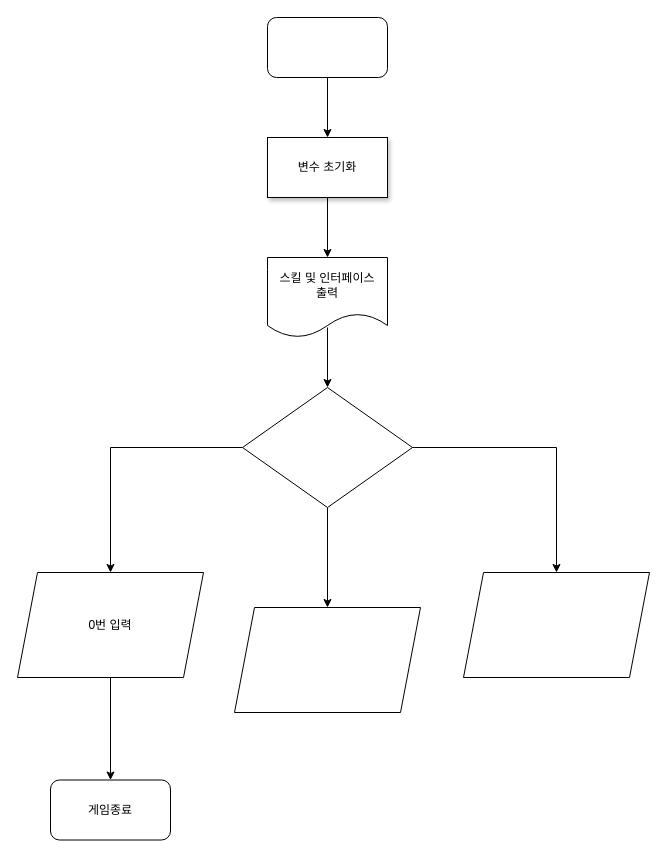
This 667x858 diagram has some shape labels left out. The shapes that lost their labels are listed below. From the top down, each one's centre as x and y in pixels, then its label:
At point (327, 47): "게임 시작".
At point (327, 447): "버튼 입력 판단".
